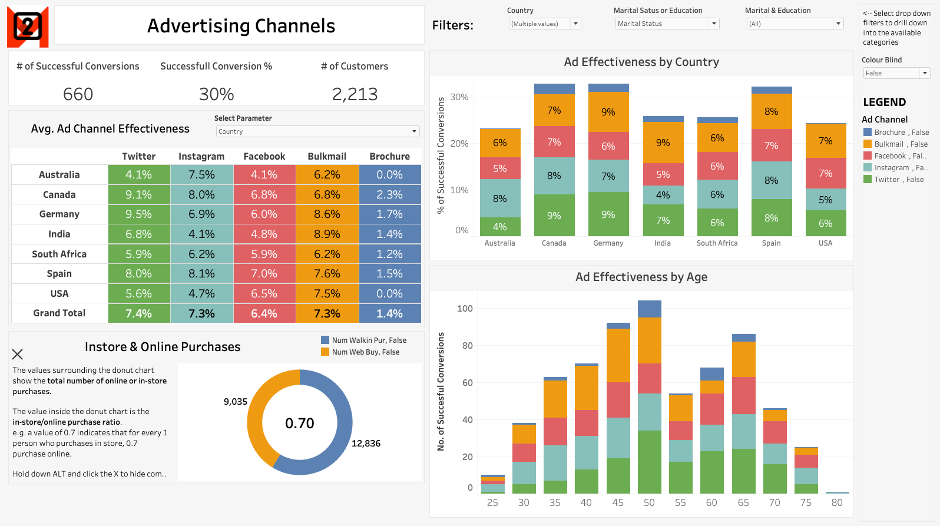

The page's visual inventory and layout, read from the dashboard file:
{"tool":"tableau","page":{"name":"Best Ad Channel","canvas":[1600,900],"ordinal":0},"visuals":[{"type":"text","box":[91,9,637,75]},{"type":"filter","title":"Marital/ Education by Ad","param":"[federated.0kzyknu0qdraco14eoq0s0do3e3y].[none:Country:nk]","box":[860,9,137,61]},{"type":"parameter","param":"[Parameters].[Parameter 4]","box":[1041,9,191,92]},{"type":"filter","title":"Marital/ Education by Ad","param":"[federated.0kzyknu0qdraco14eoq0s0do3e3y].[none:Calculation_228276245933514754:nk","box":[1264,9,179,61]},{"type":"image","param":"Image/Screenshot 2023-06-22 at 23.56.01.png","box":[9.4,9.4,81.9,91.4]},{"type":"text","box":[1461.6,10.4,128.1,83]},{"type":"text","box":[730,11,89,70]},{"type":"worksheet","title":"Ad KPI","mark":"Automatic","box":[13,85,715,102]},{"type":"worksheet","title":"Marital/ Education by Ad","mark":"Automatic","cols":["Calculation_228276245933514754"],"box":[728,85,729,468]},{"type":"parameter","param":"[Parameters].[Parameter 7]","box":[1461.6,93.4,128.1,67]},{"type":"text","box":[1461.6,160.4,128.1,32]},{"type":"text","box":[18,192,345,59]},{"type":"parameter","param":"[Parameters].[Marital Satus or Education (copy)_369084105229053953]","box":[363,192,360,59]},{"type":"legend","title":"Marital/ Education by Ad","param":"[federated.0kzyknu0qdraco14eoq0s0do3e3y].[:Measure Names]\n[Parameters].[Paramete","box":[1461.6,192.4,128.1,159]},{"type":"worksheet","title":"Ad Channel by Marital/ Education","mark":"Bar","rows":["Marital & Education (copy)_369084105229332482"],"box":[18,251,705,306.1]},{"type":"worksheet","title":"Social Media by Age","mark":"Automatic","cols":["Age (bin)"],"box":[728,553,729,334]},{"type":"text","box":[18,567.1,523,50]},{"type":"legend","title":"Donut ","param":"[federated.0kzyknu0qdraco14eoq0s0do3e3y].[:Measure Names]\n[Parameters].[Paramete","box":[541,567.1,182,50]},{"type":"dashboard-object","box":[19,590,27,31]},{"type":"text","box":[18,617.1,301,217]},{"type":"worksheet","title":"Donut ","mark":"Pie","rows":["Calculation_88735028104437789","Calculation_88735028104450079"],"box":[319,617.1,404,217]}]}

Visuals, with their boxes in screenshot pixels (x1, y1, x2, y2), scaled from the page's 1600x900 canvas onto the 941x527 screenshot:
text: 54:5:428:49
"Marital/ Education by Ad" filter: 506:5:586:41
parameter: 612:5:725:59
"Marital/ Education by Ad" filter: 743:5:849:41
image: 6:6:54:59
text: 860:6:935:55
text: 429:6:482:47
"Ad KPI" worksheet: 8:50:428:109
"Marital/ Education by Ad" worksheet: 428:50:857:324
parameter: 860:55:935:94
text: 860:94:935:113
text: 11:112:213:147
parameter: 213:112:425:147
"Marital/ Education by Ad" legend: 860:113:935:206
"Ad Channel by Marital/ Education" worksheet (Bar marks): 11:147:425:326
"Social Media by Age" worksheet: 428:324:857:519
text: 11:332:318:361
"Donut " legend: 318:332:425:361
dashboard-object: 11:345:27:364
text: 11:361:188:488
"Donut " worksheet (Pie marks): 188:361:425:488
